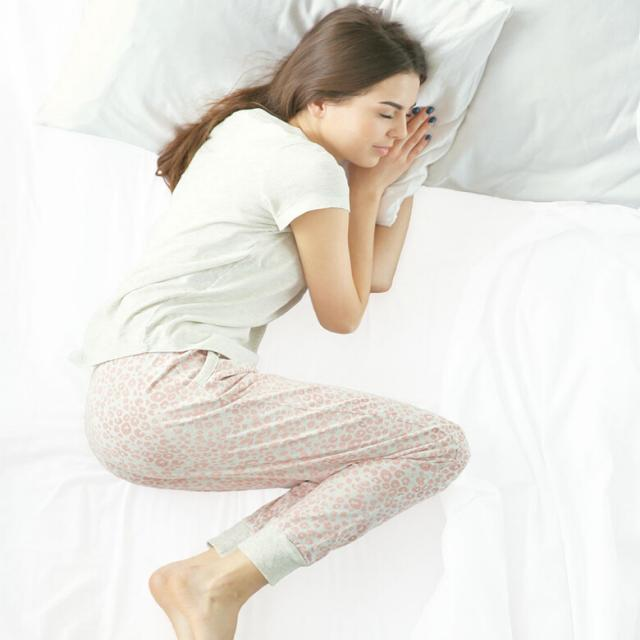people: (69, 0, 537, 640)
